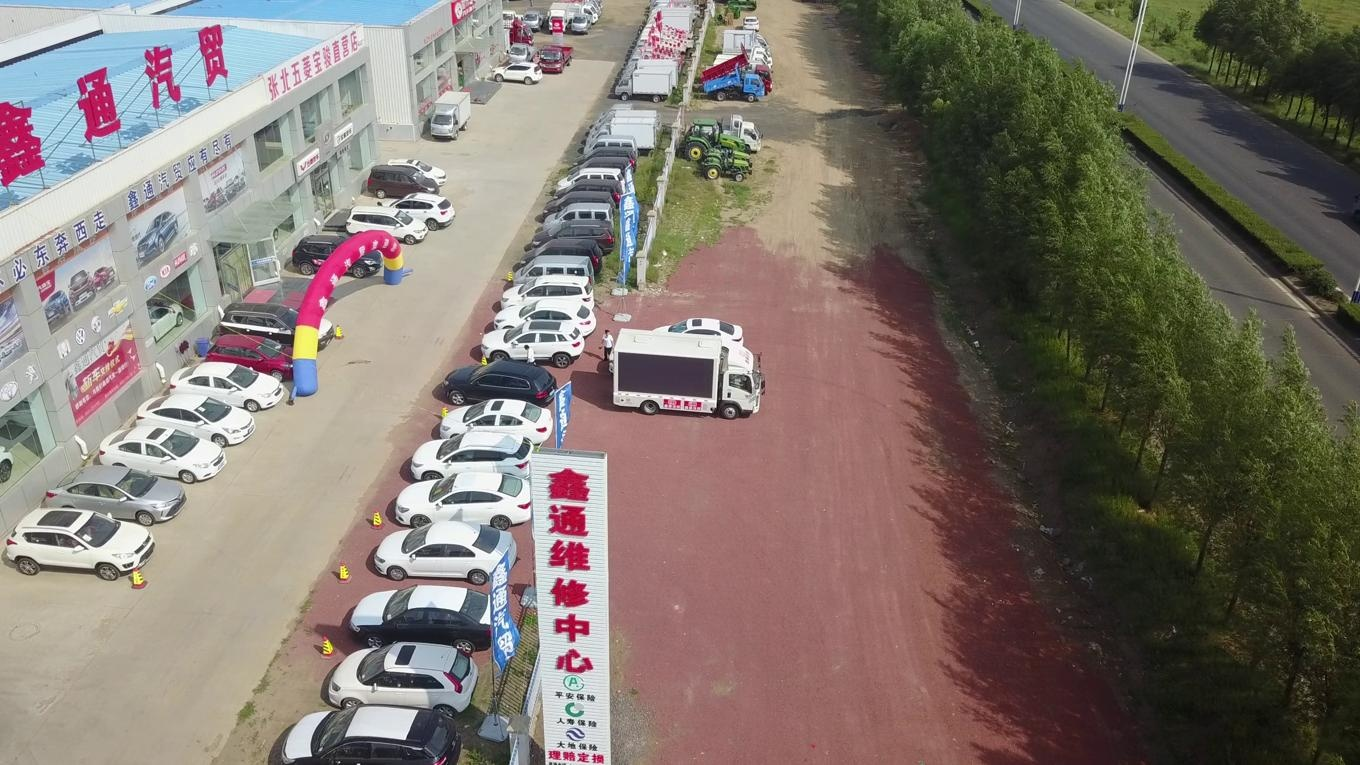car: (350, 583, 494, 654), (374, 520, 517, 584), (43, 464, 187, 525), (393, 471, 532, 529), (97, 424, 227, 483), (410, 430, 537, 485), (136, 394, 256, 448), (168, 359, 284, 413), (439, 397, 553, 448), (207, 332, 304, 382), (492, 297, 596, 342), (701, 45, 772, 96), (346, 204, 429, 245), (649, 318, 744, 352), (382, 192, 455, 230), (121, 303, 183, 344), (387, 157, 447, 187), (499, 8, 523, 30), (742, 15, 759, 31)
ignored regions: (611, 0, 699, 70), (590, 102, 657, 124), (708, 46, 772, 69)
pedestrian: (600, 329, 615, 361), (524, 344, 537, 375)
truck: (613, 327, 763, 421), (684, 116, 745, 162), (704, 63, 766, 101), (430, 89, 472, 142), (588, 123, 658, 153), (699, 119, 762, 151), (614, 71, 671, 102), (702, 146, 751, 182), (691, 111, 749, 139), (482, 18, 534, 48), (721, 29, 770, 55), (539, 42, 574, 74), (558, 3, 598, 25), (507, 42, 537, 64), (548, 2, 567, 33), (523, 9, 547, 32), (571, 12, 592, 34)
van: (327, 641, 479, 718), (4, 506, 156, 579), (281, 704, 462, 765), (441, 359, 558, 411), (218, 303, 333, 353), (480, 319, 584, 368), (293, 234, 383, 278), (500, 275, 596, 314), (532, 219, 615, 256), (518, 240, 603, 276), (514, 256, 596, 289), (366, 164, 439, 199), (551, 179, 624, 209), (543, 203, 614, 231), (554, 168, 625, 196), (543, 191, 615, 216), (571, 148, 638, 172), (567, 158, 631, 179), (491, 61, 543, 85), (583, 136, 638, 158)
